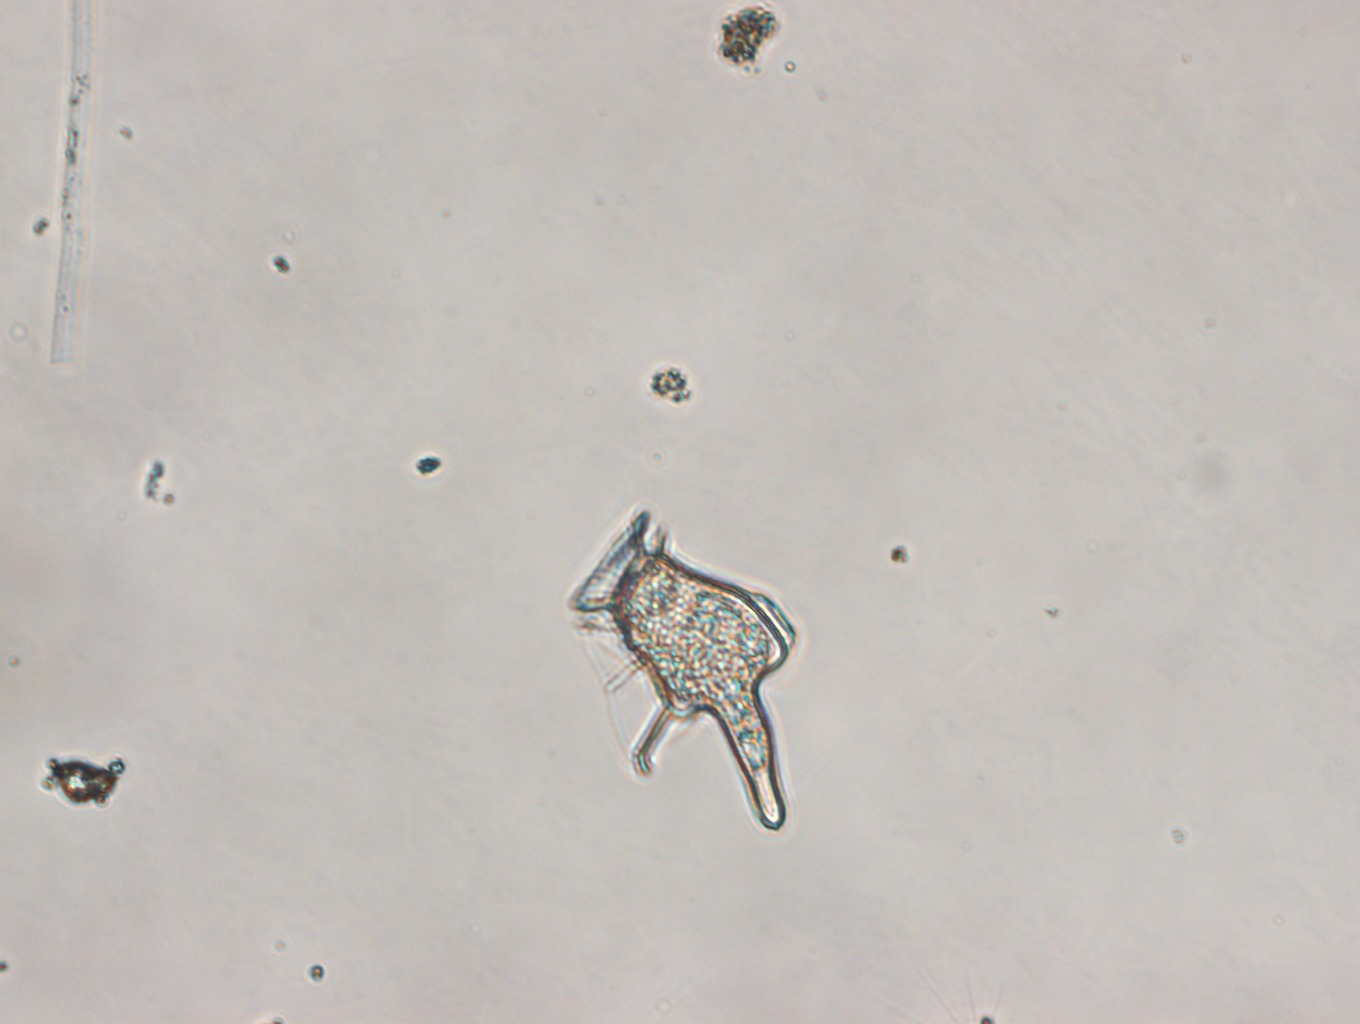dinophysis caudata: (569, 509, 796, 829)
